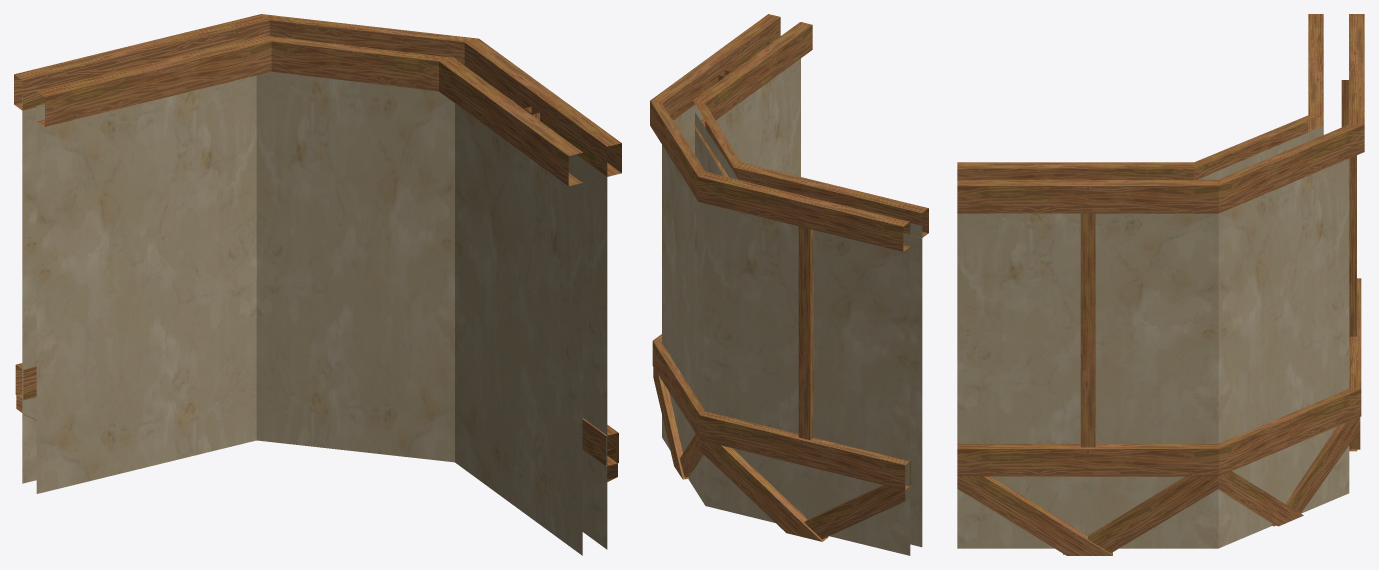
Rendered from Overhang_Plaster_Corner_Front.gltf.
The picture shows the model from 3 angles, left to right: view 1: azimuth 30°, elevation 25°; view 2: azimuth 150°, elevation 25°; view 3: azimuth 270°, elevation 25°; orthographic projection. The views are drawn at different scales.
Parts seen in each view (by area): view 1: Overhang_Plaster_Corner_Front; view 2: Overhang_Plaster_Corner_Front; view 3: Overhang_Plaster_Corner_Front.
Boxes of the visible parts, bbox=[...] form: Overhang_Plaster_Corner_Front: bbox=[14, 14, 621, 555]; Overhang_Plaster_Corner_Front: bbox=[650, 14, 928, 555]; Overhang_Plaster_Corner_Front: bbox=[957, 14, 1364, 555].
Size of the model in its own units: 3.12 by 3.14 by 3.12.
2 materials, 2 textured.
